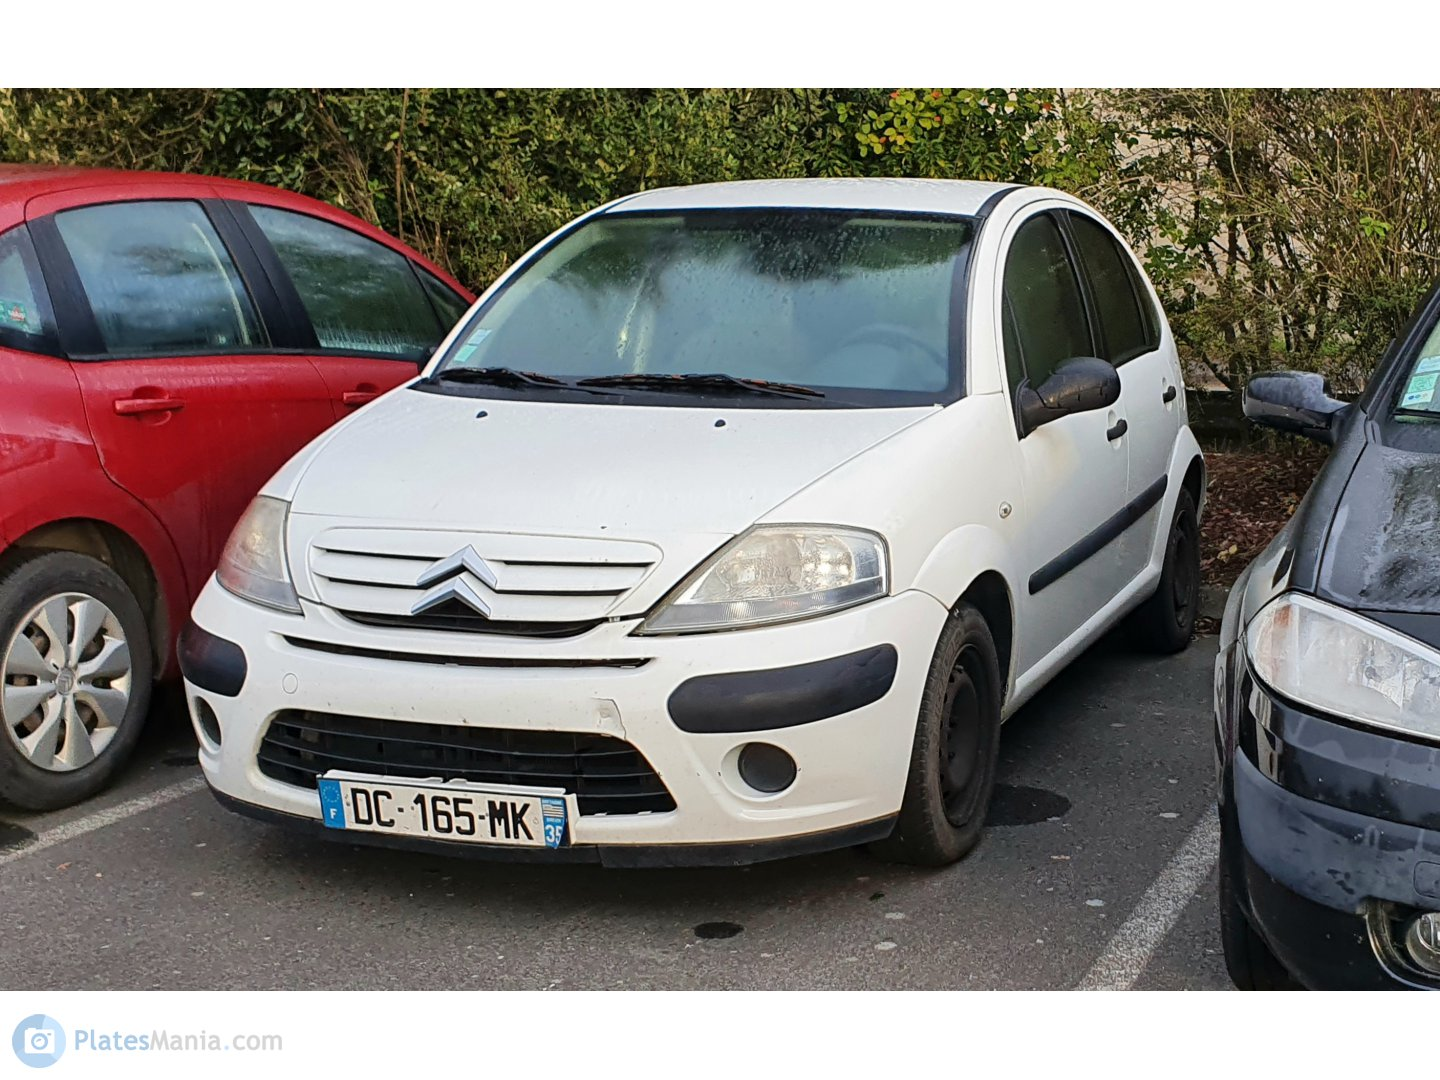licence plate: (312, 773, 577, 850)
